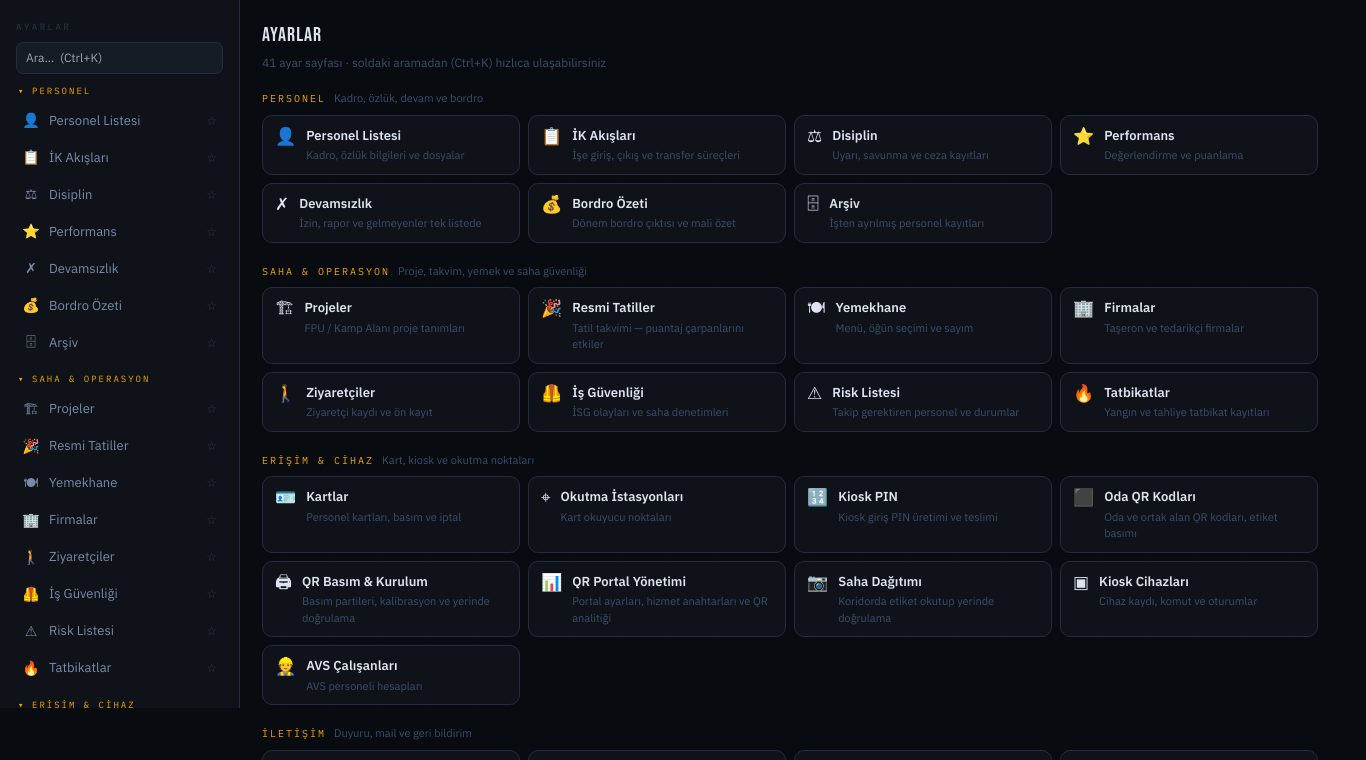
Test case: arama › Türkçe karaktersiz yazılanı bulur
The image size is (1366, 760).
Type "saglik" into the search field named "Ayarlarda ara" at [120, 58], box [16,42,223,74]
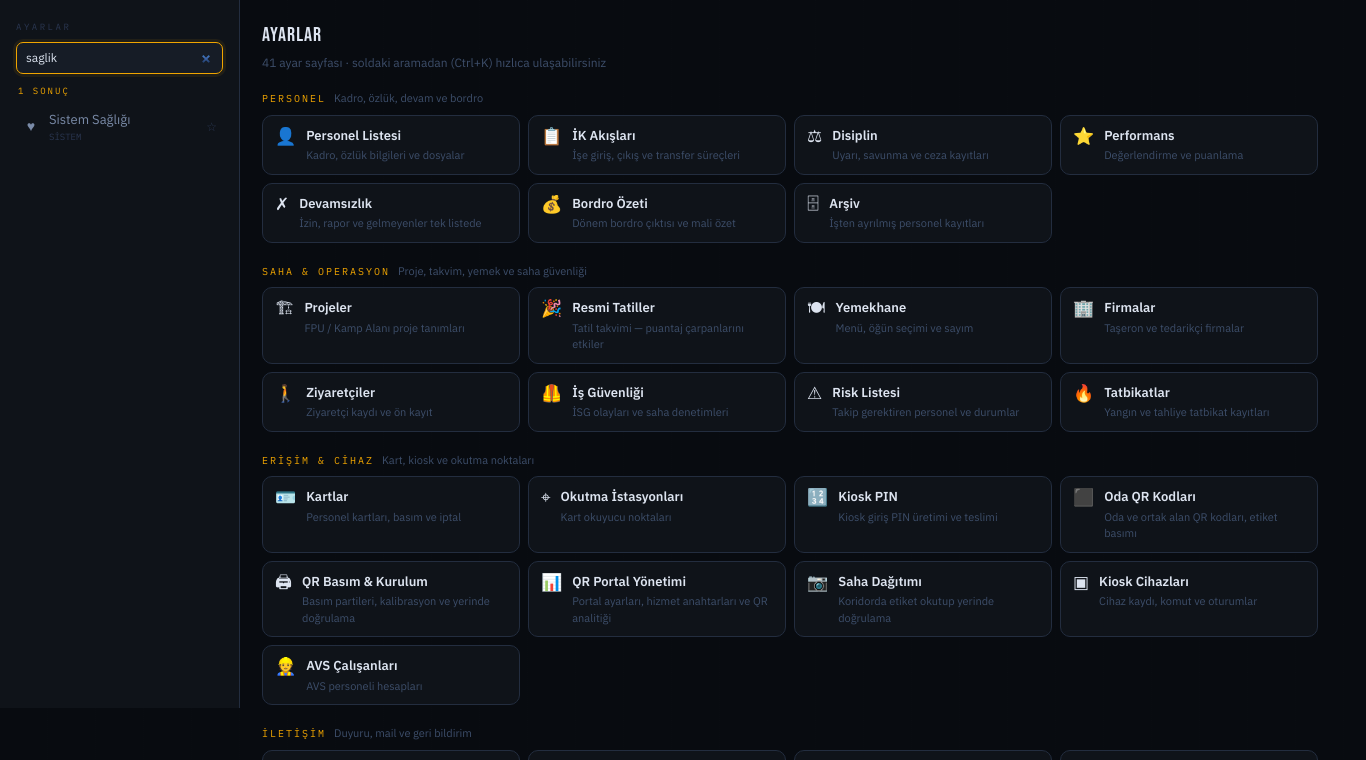
expect the text "1 SONUÇ" is shown: met, box [18,84,70,96]
expect the text "Sistem Sağlığı" is shown: met, box [49,111,130,128]
